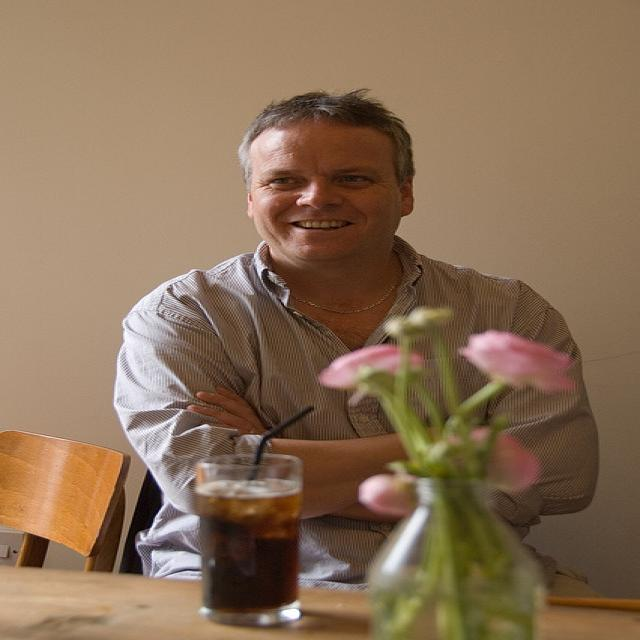chair: (0, 429, 133, 571), (114, 468, 165, 577)
dining table: (0, 565, 639, 640)
